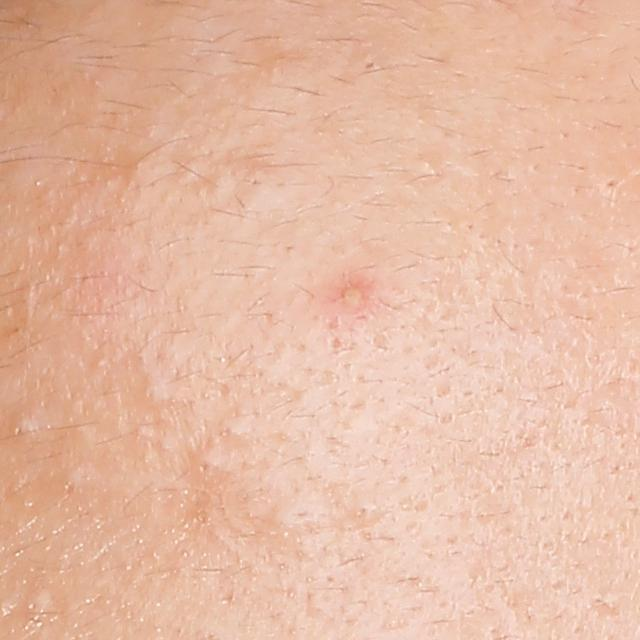comedo: (253, 491, 315, 554), (177, 441, 233, 499), (3, 409, 45, 448), (135, 371, 172, 410), (57, 462, 87, 496), (349, 496, 377, 524)
pustule: (333, 274, 370, 313)
